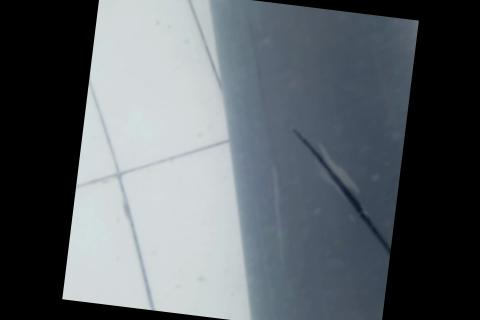keretakan: (276, 126, 403, 255)
